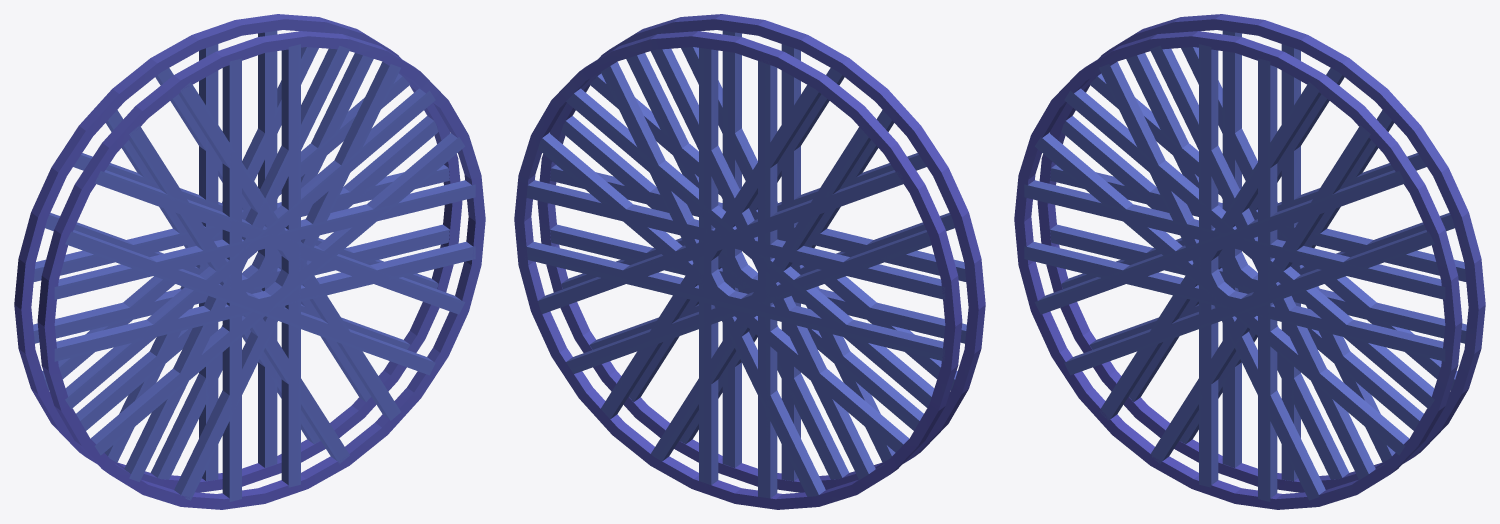
The model's file is wheel.glb.
3 views of the same model, side by side, from view 1: azimuth 30°, elevation 25°; view 2: azimuth 150°, elevation 25°; view 3: azimuth 330°, elevation 25° (orthographic).
Parts seen in each view (by area): view 1: wheel; view 2: wheel; view 3: wheel.
Boxes of the visible parts, x1,y1,x2,y2 form: wheel: (14, 14, 485, 509); wheel: (514, 14, 985, 509); wheel: (1014, 14, 1485, 509).
Bounding box in the file's own units: 1.49 × 1.49 × 0.1778.
1 material, 1 textured.
